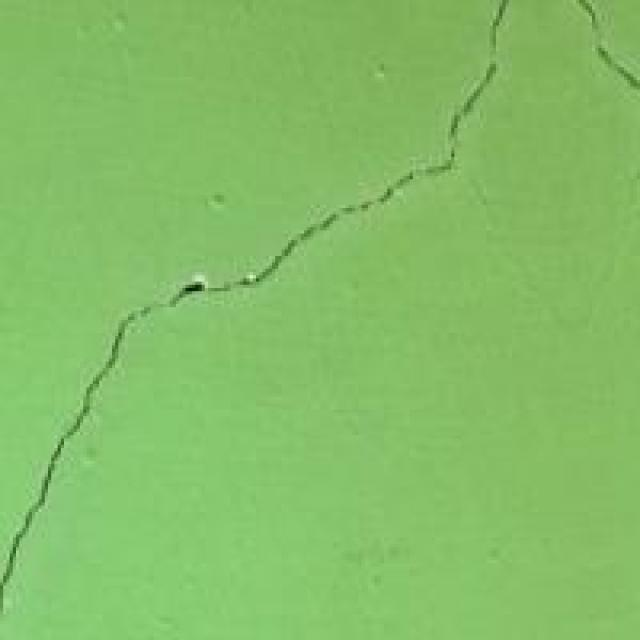Crack: (0, 94, 461, 613)
